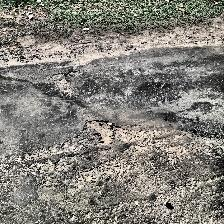pothole: (84, 120, 116, 146)
